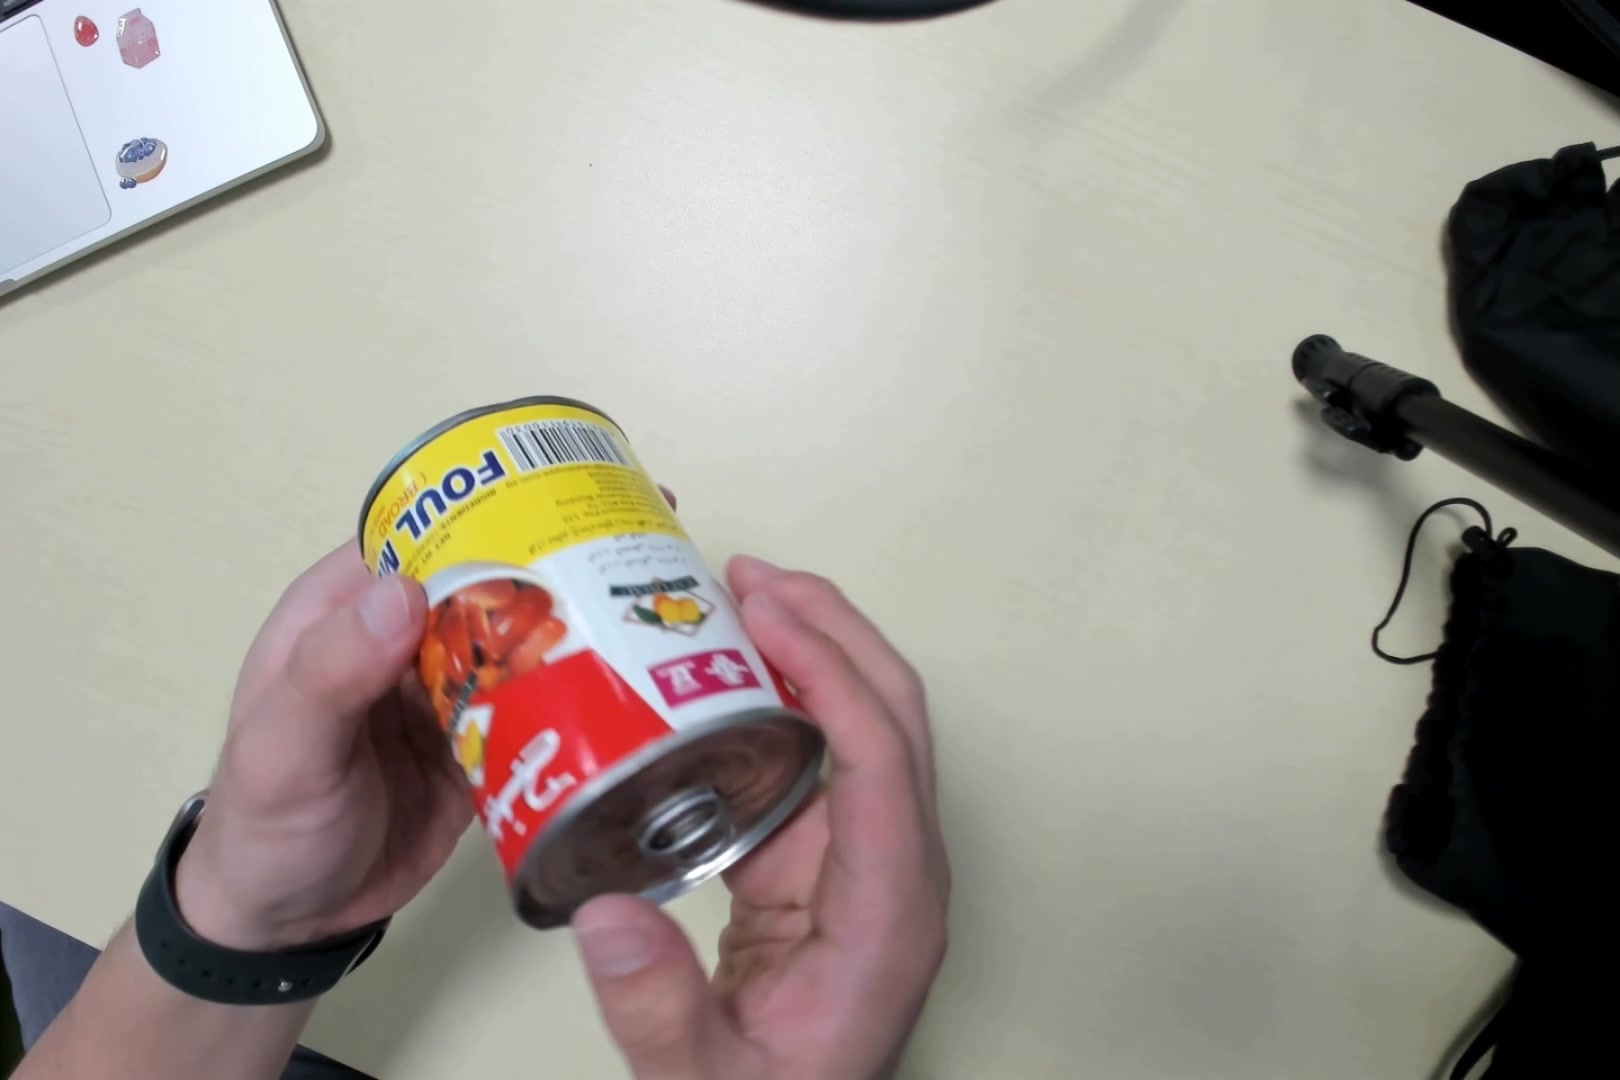OtherCannedBeansPeasPeanuts_400-499g_Halal_NonHealthy: (353, 397, 815, 923)
